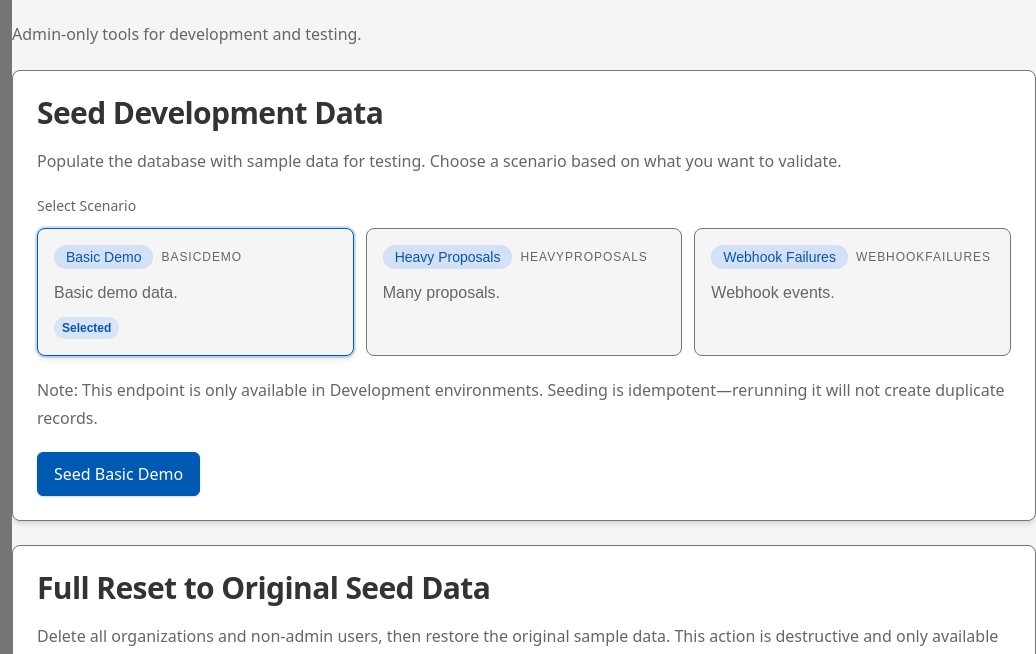
Test: AdminDevToolsPage › displays success message with summary after successful seeding
Step 1. Click the button "Seed Basic Demo" → (119, 474), box [37, 452, 200, 496]
(page scrolled)
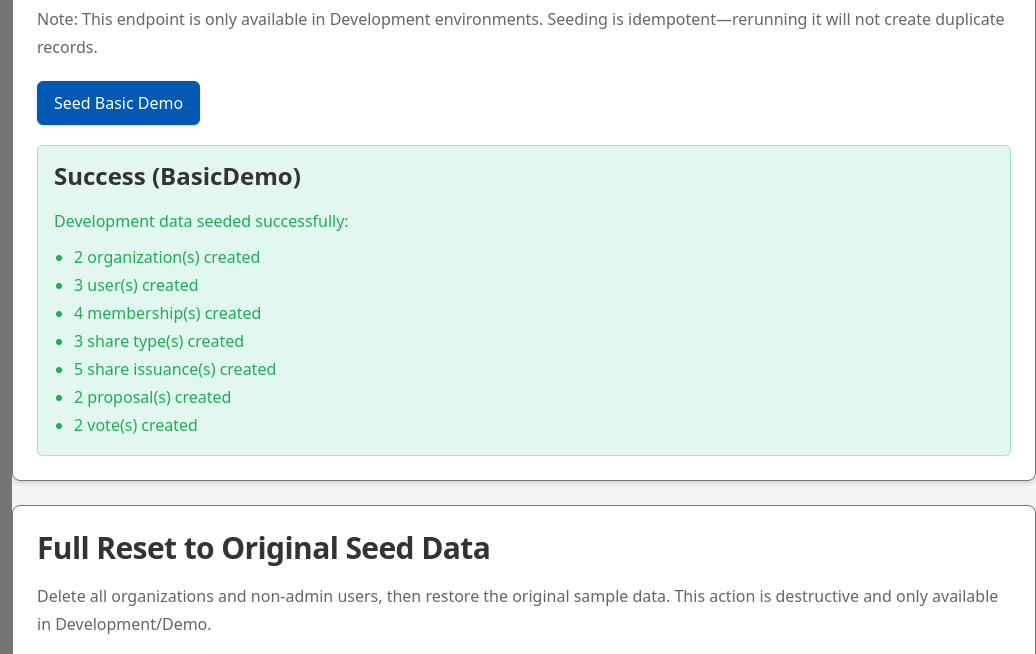
expect the heading "Success (BasicDemo)" is shown: met, box [54, 159, 301, 192]
expect the list item "2 organization(s) created" is shown: met, box [74, 246, 260, 268]
expect the list item "3 user(s) created" is shown: met, box [74, 274, 198, 296]
